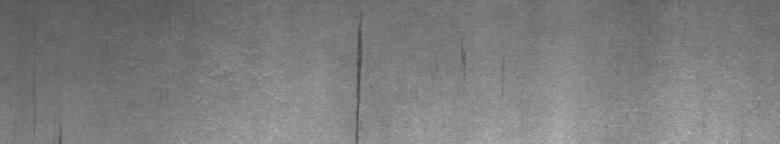hd: (353, 16, 366, 136)
